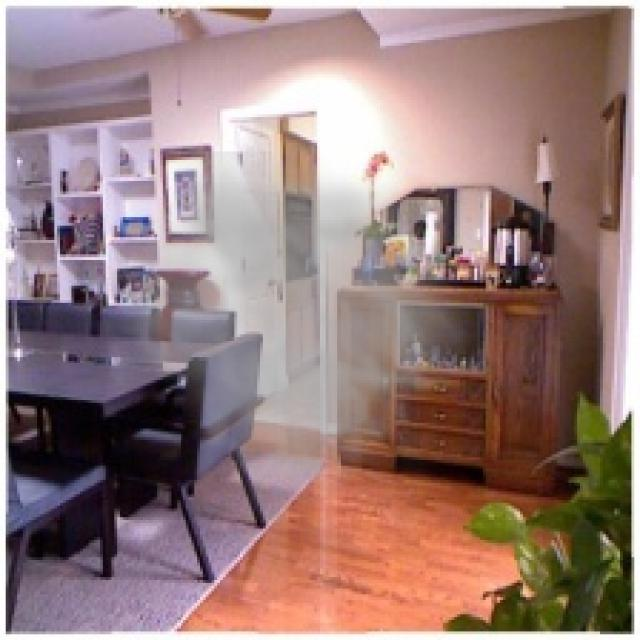smoke: (97, 152, 486, 528)
